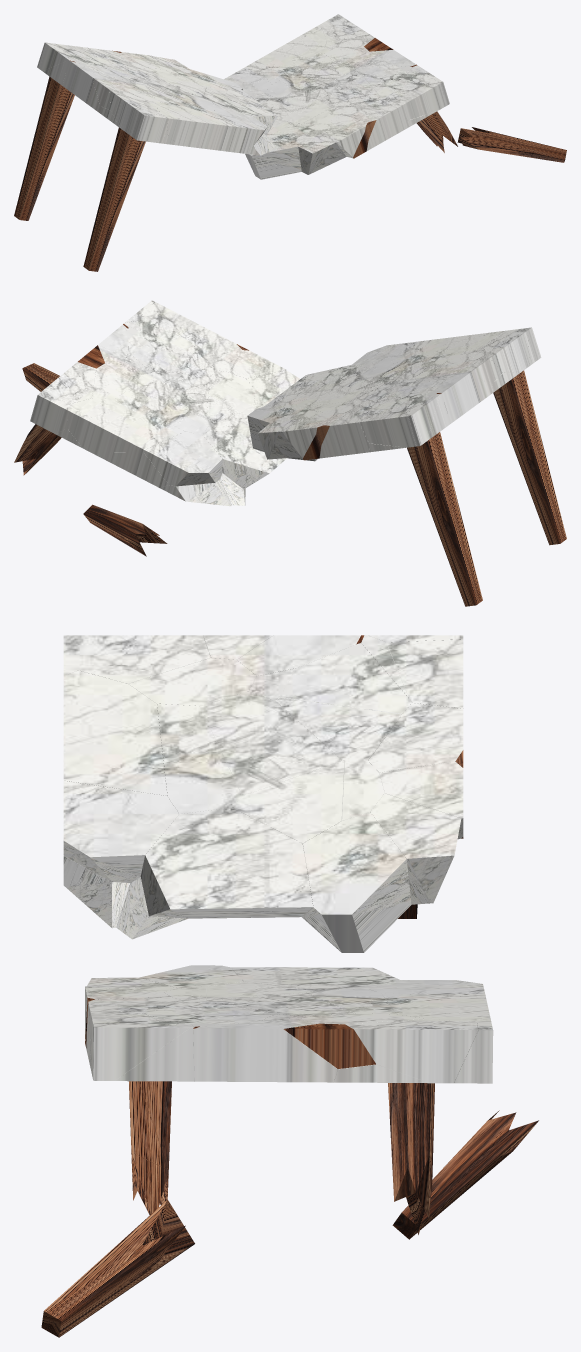
File: BrokenDesk.fbx
3 renders of one model, top to bottom at view 1: azimuth 30°, elevation 25°; view 2: azimuth 150°, elevation 25°; view 3: azimuth 270°, elevation 25°, orthographic. The views are drawn at different scales.
Visible parts, largest first — view 1: Broken Desk; view 2: Broken Desk; view 3: Broken Desk.
Part boxes in pixels (<box>): Broken Desk: <box>14,14,566,271</box>; Broken Desk: <box>14,300,566,606</box>; Broken Desk: <box>41,635,538,1337</box>.
Size of the model in its own units: 1626 by 557 by 756.
